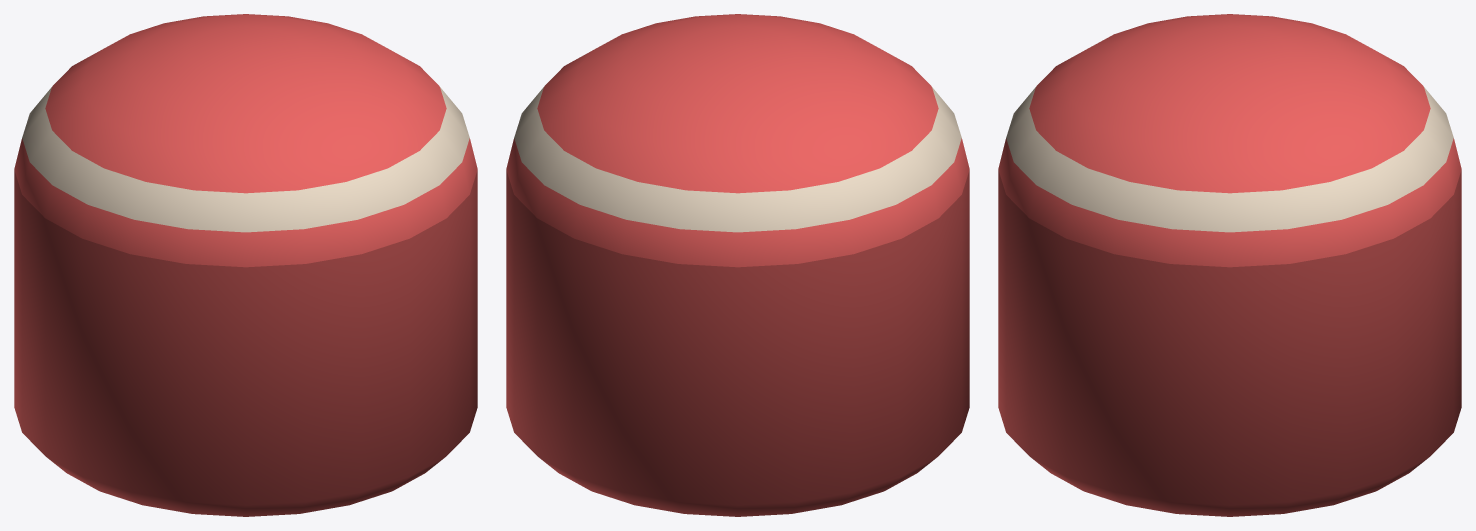
Rendered from bumper_kednar.fbx.
The picture shows the model from 3 angles, left to right: view 1: azimuth 30°, elevation 25°; view 2: azimuth 150°, elevation 25°; view 3: azimuth 270°, elevation 25°; orthographic projection.
Parts seen in each view (by area): view 1: bumper; view 2: bumper; view 3: bumper.
Part boxes in pixels (x1,y1,x2,y2): bumper: [14, 14, 477, 516]; bumper: [506, 14, 969, 516]; bumper: [998, 14, 1461, 516].
Size of the model in its own units: 66.05 by 60.05 by 66.05.
